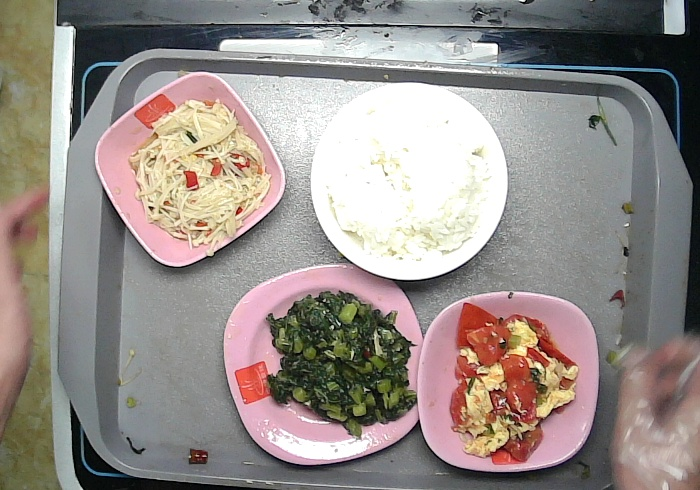SHKJ-Fan_Wan: (307, 80, 511, 283)
SHKJ-Fen_Se_Cai_Die: (416, 290, 601, 470)
SHKJ-Fen_Se_Si_Fang_Cai_Die: (221, 262, 425, 467)
SHKJ-Fen_Se_Xiao_Fang_Die: (93, 71, 288, 267)
